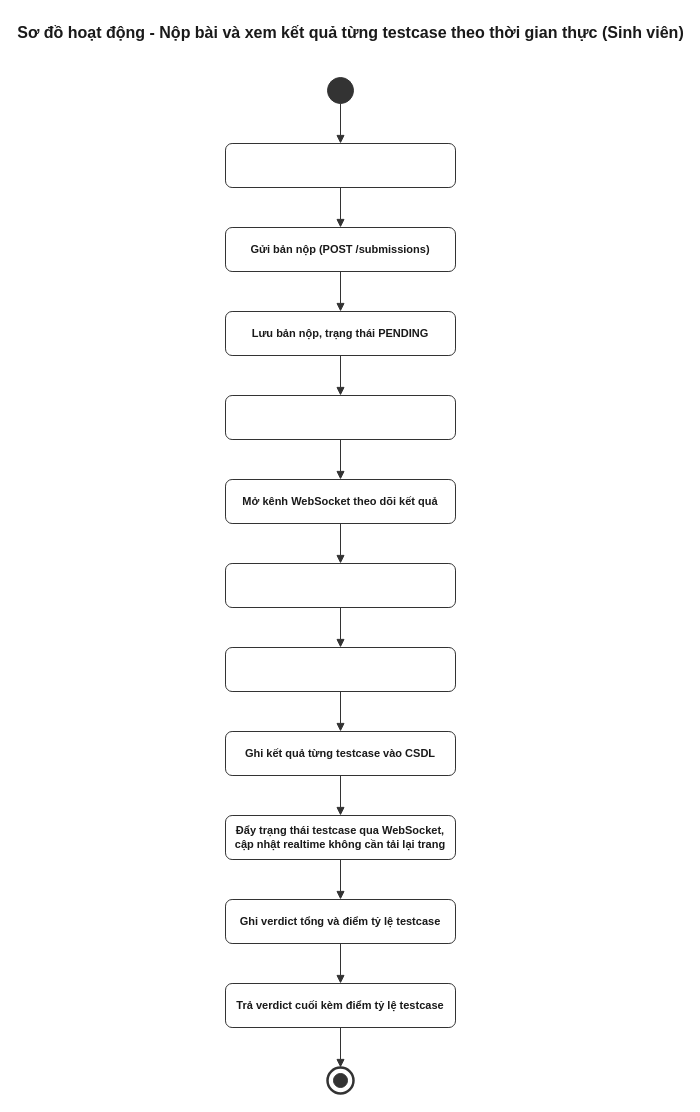
Image size: 700x1112. Some labels were removed from this diagram. Here are the shapes that lost their labels. From the top down, the centre of each, then its label:
(340,165): Bấm Nộp bài
(340,417): Trả submissionId ngay, không chờ chấm xong
(340,585): Đẩy job chấm từng testcase vào hàng đợi (RabbitMQ)
(340,669): go-judge chấm lần lượt từng testcase (chạy hết, không dừng sớm)
